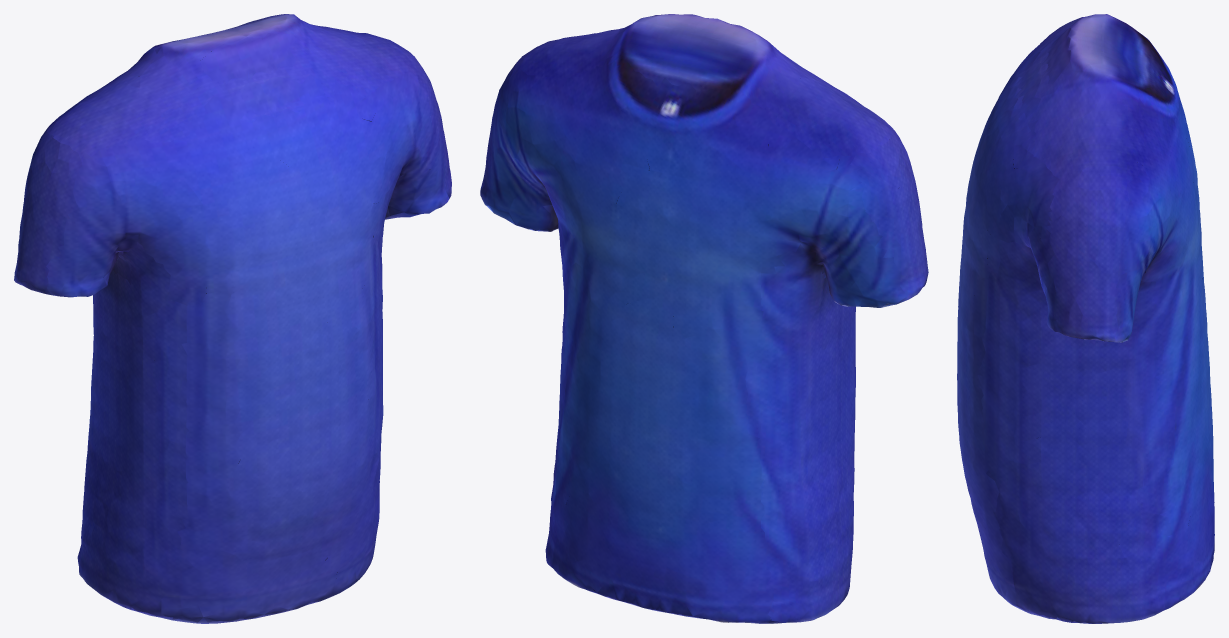
3 renders of one model, left to right at view 1: azimuth 30°, elevation 25°; view 2: azimuth 150°, elevation 25°; view 3: azimuth 270°, elevation 25°, orthographic. The views are drawn at different scales.
Visible parts, largest first — view 1: world; view 2: world; view 3: world.
Part boxes in pixels (<box>): world: <box>14,14,451,623</box>; world: <box>480,14,928,623</box>; world: <box>957,14,1214,623</box>.
Bounding box in the file's own units: 0.7776 × 0.9611 × 0.4163.
1 material, 1 textured.
